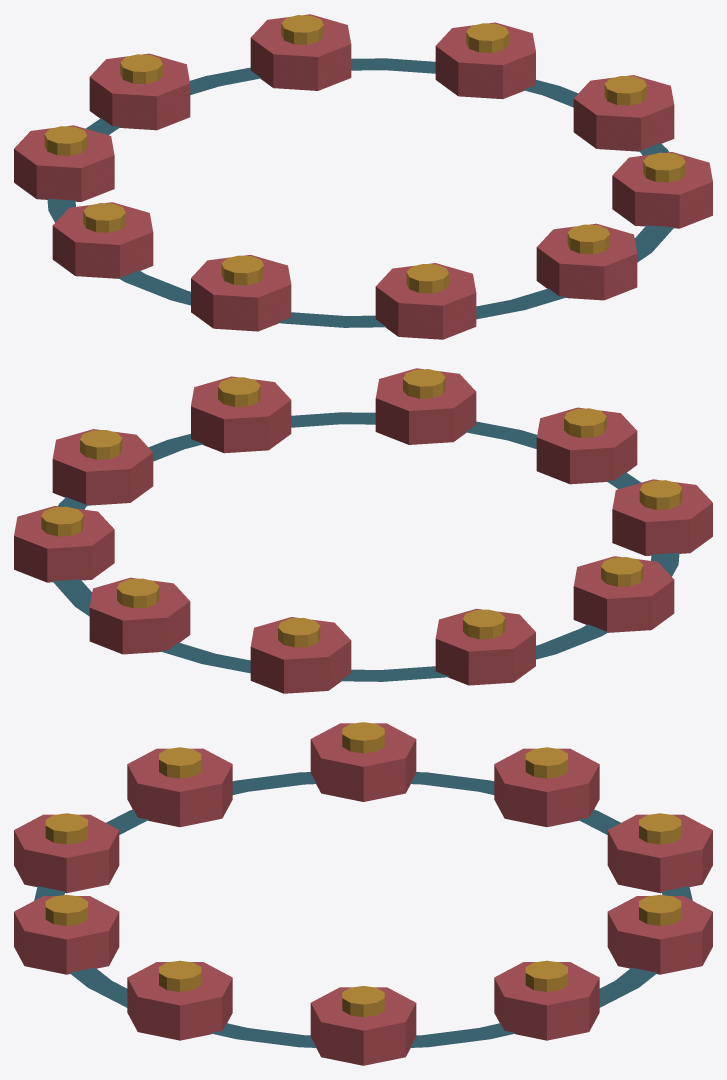
File: reference_flower_crown.gltf
The picture shows the model from 3 angles, top to bottom: view 1: azimuth 30°, elevation 25°; view 2: azimuth 150°, elevation 25°; view 3: azimuth 270°, elevation 25°; orthographic projection. The views are drawn at different scales.
Parts seen in each view (by area): view 1: Flower Crown; view 2: Flower Crown; view 3: Flower Crown.
Part boxes in pixels (x1,y1,x2,y2): Flower Crown: (14,14,712,339); Flower Crown: (14,368,712,693); Flower Crown: (14,722,712,1065).
Size of the model in its own units: 0.5241 by 0.043 by 0.504.
Materials: 3 (3 with a texture image).
